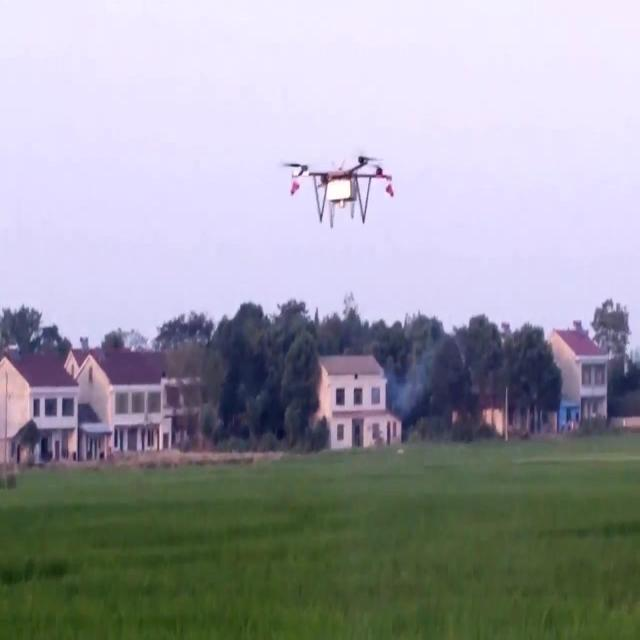drone: (282, 144, 398, 233)
